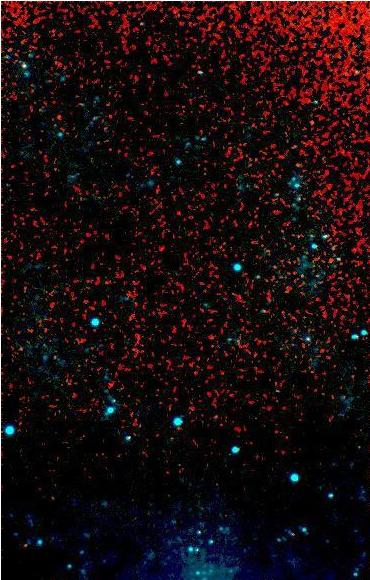star: (294, 109, 324, 139)
